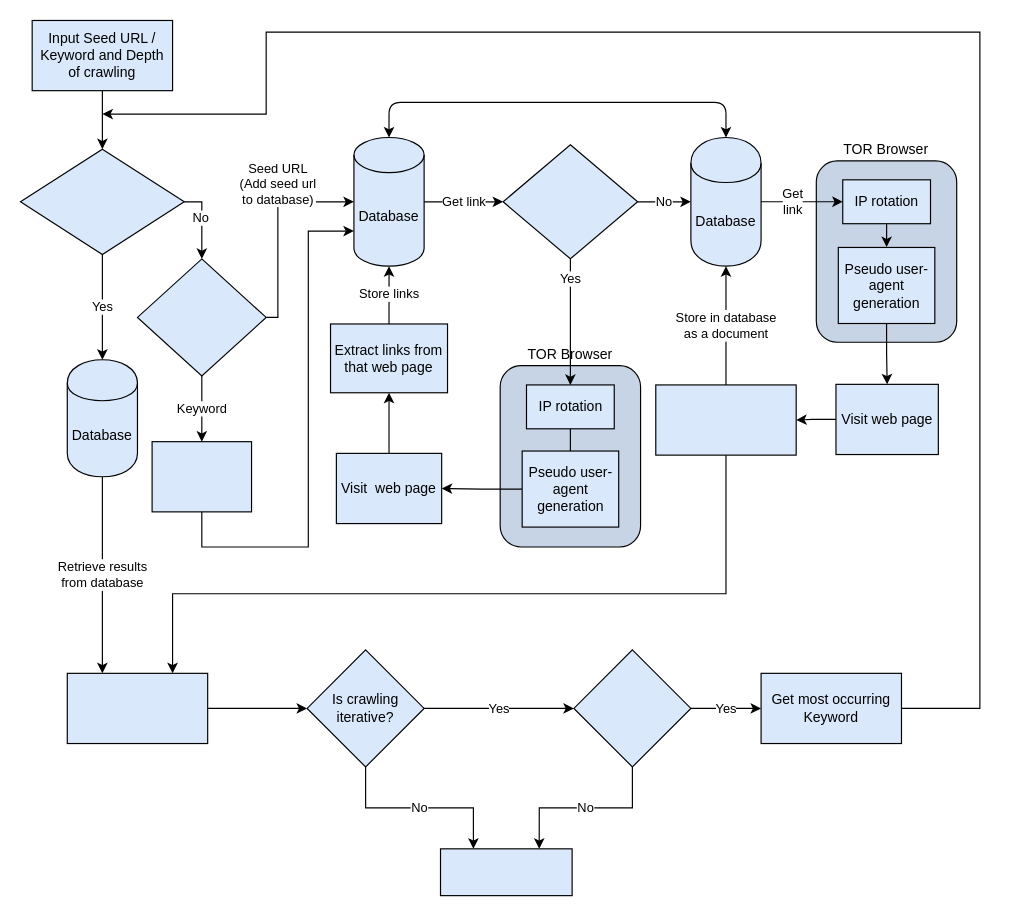
This 1010x916 diagram has some shape labels left out. Each missing label, with the box of its shape:
Display results on web page: (66, 672, 208, 744)
Is no. of crawls <= 5?: (573, 649, 691, 767)
Is no. of pages visited < depth: (502, 144, 638, 259)
Is Seed URL / Keyword already crawled?: (19, 148, 184, 254)
Is seed URL or keyword provided?: (136, 258, 266, 376)
Retrieve title, page content, parent link, image urls, and link status: (655, 384, 796, 455)
Terminate crawling: (439, 848, 572, 896)
Use Tordex to retrieve results: (151, 441, 252, 512)
